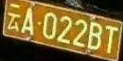A: (21, 5, 34, 35)
